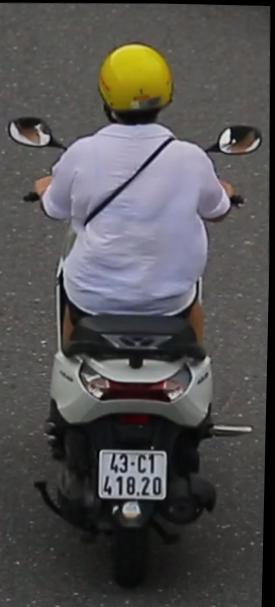LP: (94, 435, 180, 523)
helmet: (88, 33, 181, 137)
